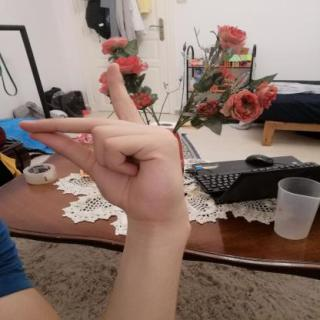TAA: (11, 56, 199, 225)
